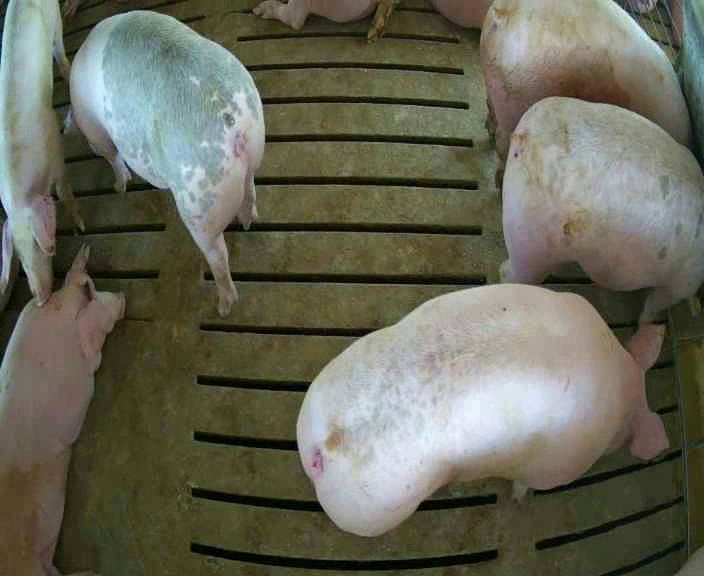pig: (297, 284, 667, 535), (62, 11, 264, 315), (502, 97, 703, 321), (0, 245, 124, 574), (480, 2, 689, 159), (0, 2, 84, 310)
